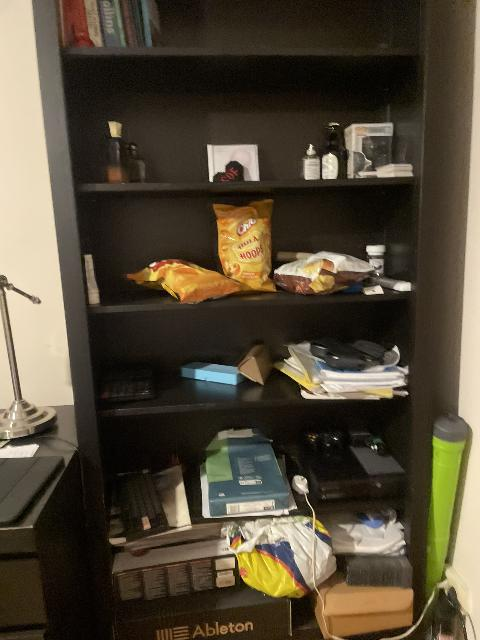Chio Cascaval 125g: (125, 259, 241, 303)
Chio Hula Hoops Cheese 70g: (211, 199, 276, 293)
Lays Beef Grilled Ribs 125g: (272, 251, 374, 296)
